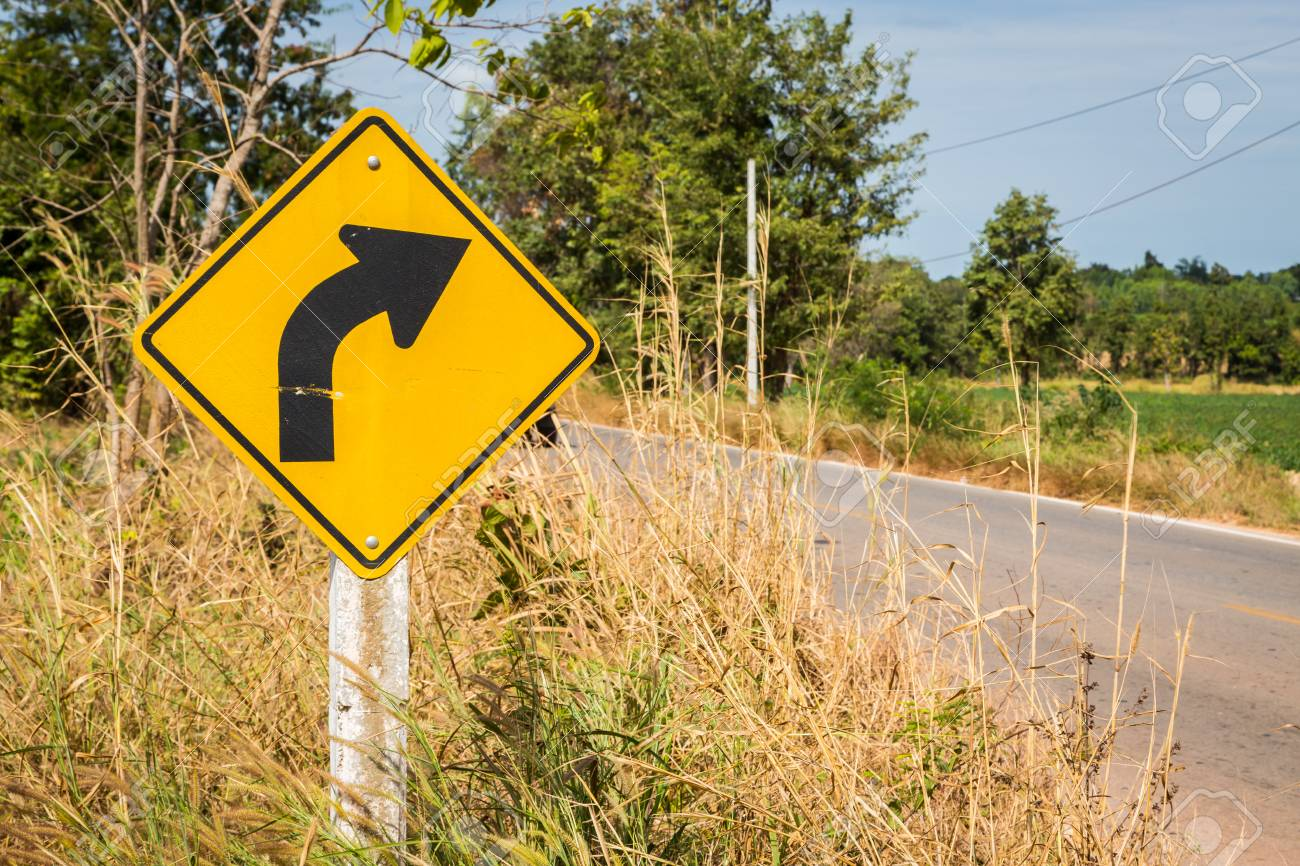right: (130, 104, 605, 579)
